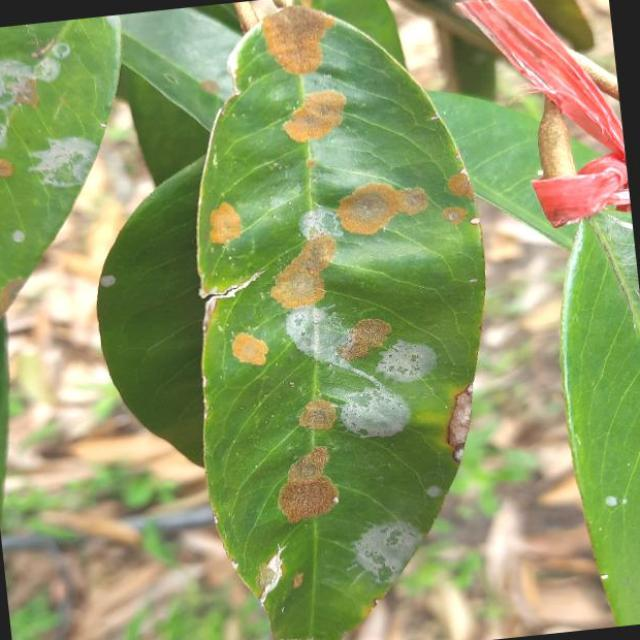Algal Leaf Spot: (143, 0, 532, 640)
